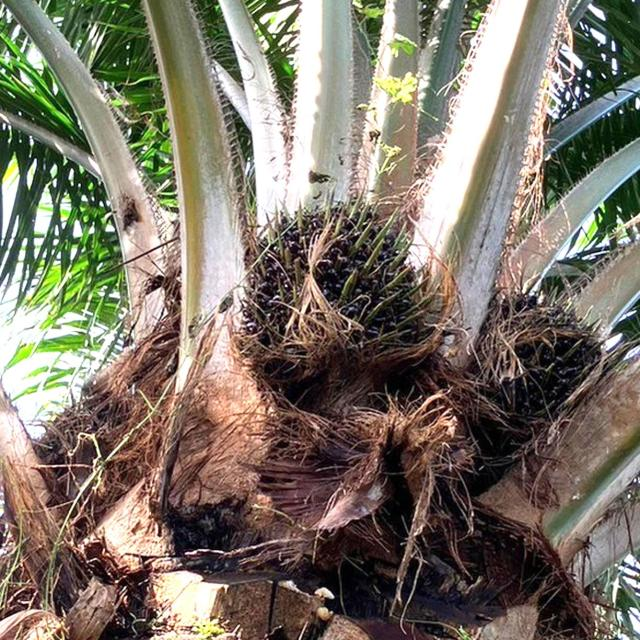unripe: (230, 172, 454, 386)
